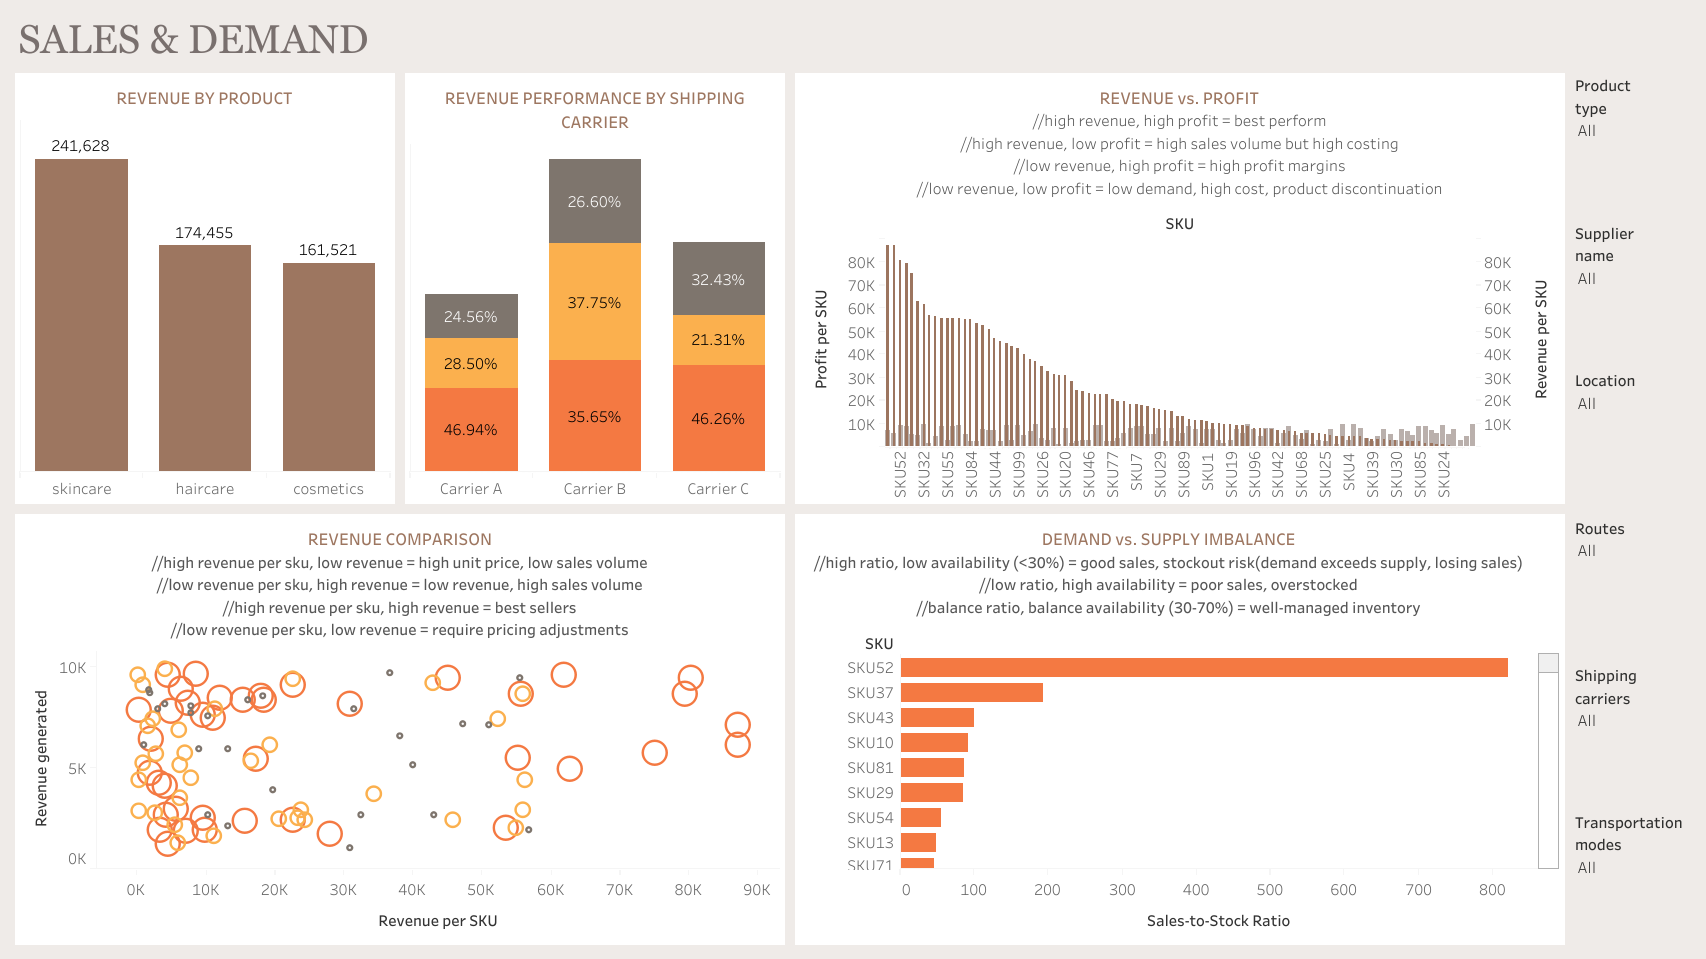

The page's visual inventory and layout, read from the dashboard file:
{"tool":"tableau","page":{"name":"SALES & DEMAND","canvas":[1366,768],"ordinal":4},"visuals":[{"type":"title","box":[8,8,1350,46]},{"type":"worksheet","title":"REVENUE BY PRODUCT","mark":"Automatic","rows":["Revenue generated"],"cols":["Product type"],"box":[8,54,312,353]},{"type":"worksheet","title":"REVENUE PERFORMANCE BY SHIPPING CARRIER","mark":"Automatic","rows":["Revenue generated"],"cols":["Shipping carriers"],"box":[320,54,312,353]},{"type":"worksheet","title":"REVENUE vs. PROFIT","mark":"Bar","rows":["Calculation_1055578171576356","Calculation_1055578171428899"],"cols":["SKU"],"box":[632,54,624,353]},{"type":"filter","title":"REVENUE vs. PROFIT","param":"[federated.0bibs5g1wbt6vy1f0ipsx13z9whc].[none:Product type:nk]","box":[1256,54,102,118]},{"type":"filter","title":"REVENUE vs. PROFIT","param":"[federated.0bibs5g1wbt6vy1f0ipsx13z9whc].[none:Supplier name:nk]","box":[1256,172,102,118]},{"type":"filter","title":"REVENUE vs. PROFIT","param":"[federated.0bibs5g1wbt6vy1f0ipsx13z9whc].[none:Location:nk]","box":[1256,290,102,118]},{"type":"worksheet","title":"REVENUE COMPARISON","mark":"Automatic","rows":["Revenue generated"],"cols":["Calculation_1055578171428899"],"box":[8,407,624,353]},{"type":"worksheet","title":"DEMAND vs. SUPPLY IMBALANCE","mark":"Automatic","rows":["SKU"],"cols":["Calculation_1055578166894622"],"box":[632,407,624,353]},{"type":"filter","title":"REVENUE vs. PROFIT","param":"[federated.0bibs5g1wbt6vy1f0ipsx13z9whc].[none:Routes:nk]","box":[1256,408,102,118]},{"type":"filter","title":"REVENUE vs. PROFIT","param":"[federated.0bibs5g1wbt6vy1f0ipsx13z9whc].[none:Shipping carriers:nk]","box":[1256,526,102,117]},{"type":"filter","title":"REVENUE vs. PROFIT","param":"[federated.0bibs5g1wbt6vy1f0ipsx13z9whc].[none:Transportation modes:nk]","box":[1256,643,102,117]}]}

Visuals, with their boxes in screenshot pixels (x1, y1, x2, y2), scaled from the page's 1366x768 canvas onto the 1706x959 screenshot:
title: 10, 10, 1696, 67
"REVENUE BY PRODUCT" worksheet: 10, 67, 400, 508
"REVENUE PERFORMANCE BY SHIPPING CARRIER" worksheet: 400, 67, 789, 508
"REVENUE vs. PROFIT" worksheet (Bar marks): 789, 67, 1569, 508
"REVENUE vs. PROFIT" filter: 1569, 67, 1696, 215
"REVENUE vs. PROFIT" filter: 1569, 215, 1696, 362
"REVENUE vs. PROFIT" filter: 1569, 362, 1696, 509
"REVENUE COMPARISON" worksheet: 10, 508, 789, 949
"DEMAND vs. SUPPLY IMBALANCE" worksheet: 789, 508, 1569, 949
"REVENUE vs. PROFIT" filter: 1569, 509, 1696, 657
"REVENUE vs. PROFIT" filter: 1569, 657, 1696, 803
"REVENUE vs. PROFIT" filter: 1569, 803, 1696, 949
